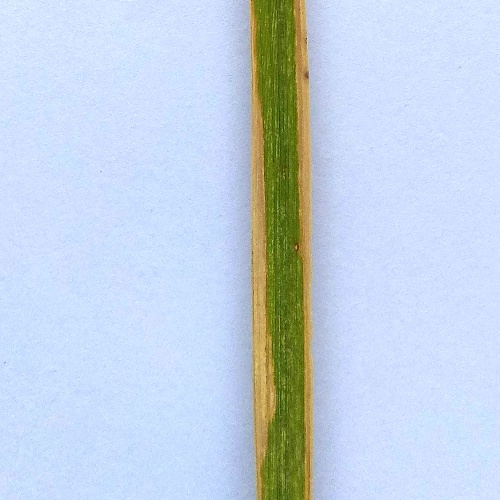Busuk Leher: (231, 96, 275, 470), (292, 1, 336, 374)
